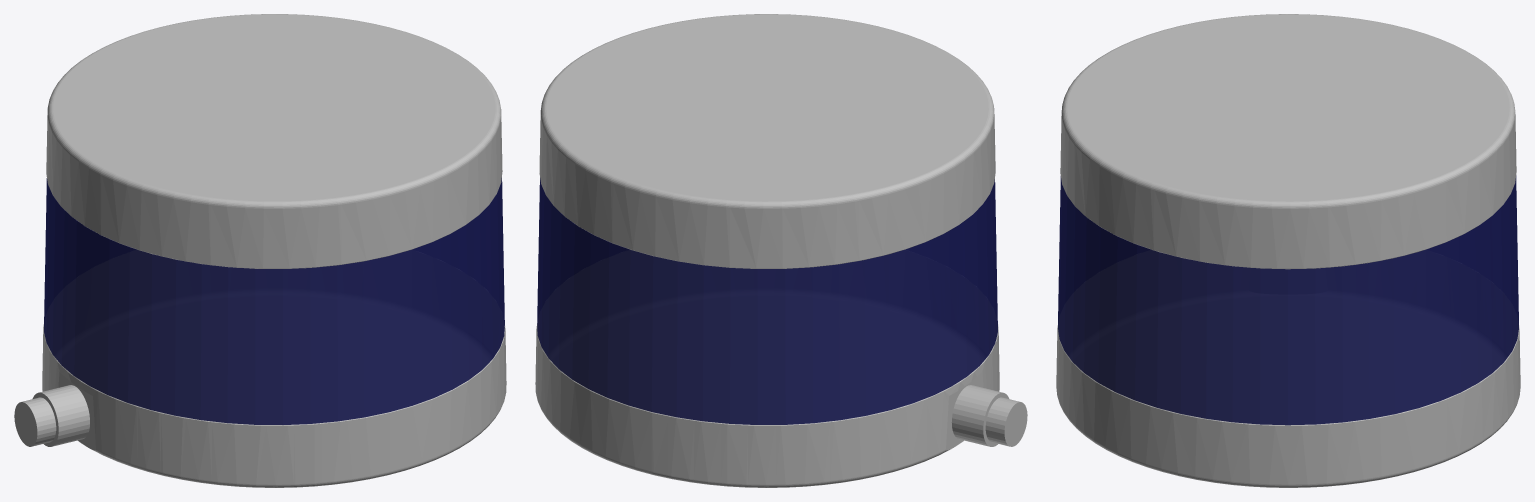
The model's file is velodyne.glb.
3 renders of one model, left to right at view 1: azimuth 30°, elevation 25°; view 2: azimuth 150°, elevation 25°; view 3: azimuth 270°, elevation 25°, orthographic.
Visible parts, largest first — view 1: VLP16_base_1; view 2: VLP16_base_1; view 3: VLP16_base_1.
Part boxes in pixels (x1=…): VLP16_base_1: x1=14, y1=14, x2=506, y2=487; VLP16_base_1: x1=535, y1=14, x2=1027, y2=487; VLP16_base_1: x1=1056, y1=14, x2=1520, y2=487.
Bounding box in the file's own units: 0.1158 × 0.0699 × 0.1036.
